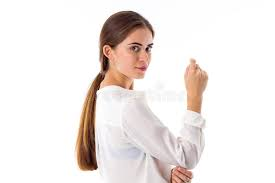person: (98, 10, 155, 81)
